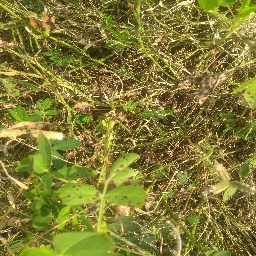GroundNut_Leaf: (58, 231, 117, 254), (56, 183, 102, 208), (108, 152, 141, 183), (108, 188, 150, 208), (33, 191, 52, 227), (37, 130, 52, 173), (57, 166, 98, 180), (10, 107, 39, 121), (53, 139, 83, 152), (245, 74, 256, 108)
